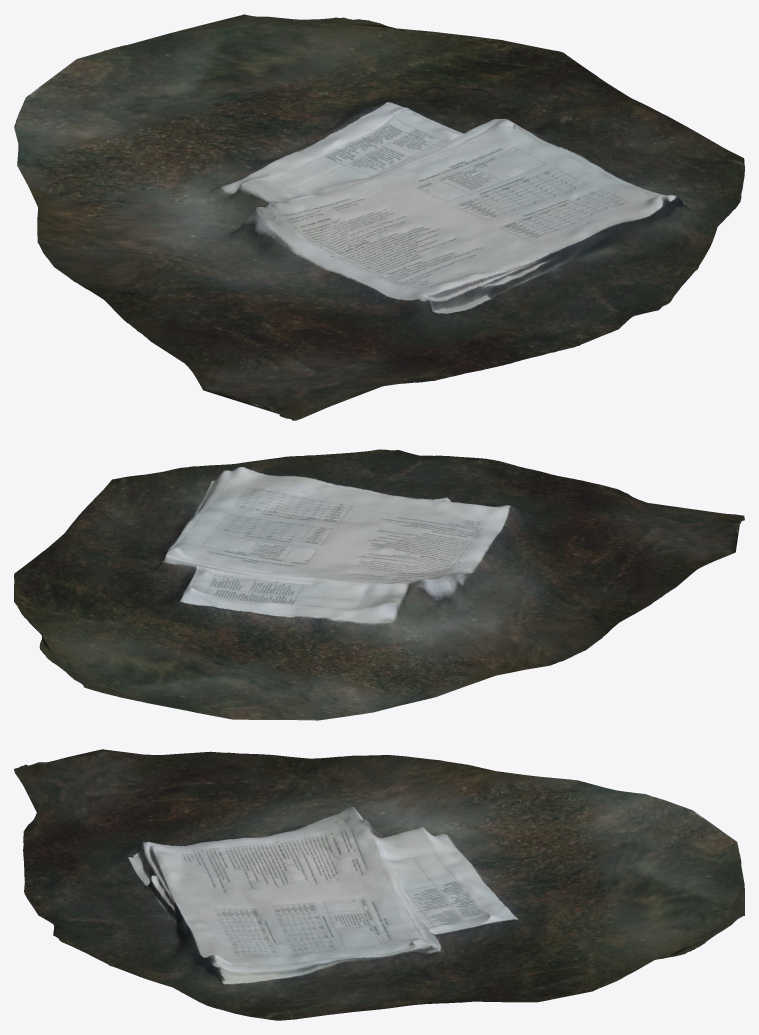
Rendered from 3dmodel.glb.
3 renders of one model, top to bottom at view 1: azimuth 30°, elevation 25°; view 2: azimuth 150°, elevation 25°; view 3: azimuth 270°, elevation 25°, orthographic. The views are drawn at different scales.
Visible parts, largest first — view 1: 3DModel; view 2: 3DModel; view 3: 3DModel.
Part boxes in pixels (x1,y1,x2,y2): 3DModel: (14, 14, 744, 420); 3DModel: (14, 449, 744, 720); 3DModel: (14, 749, 744, 1020).
Size of the model in its own units: 1.24 by 0.0646 by 1.4.
1 material, 1 textured.
